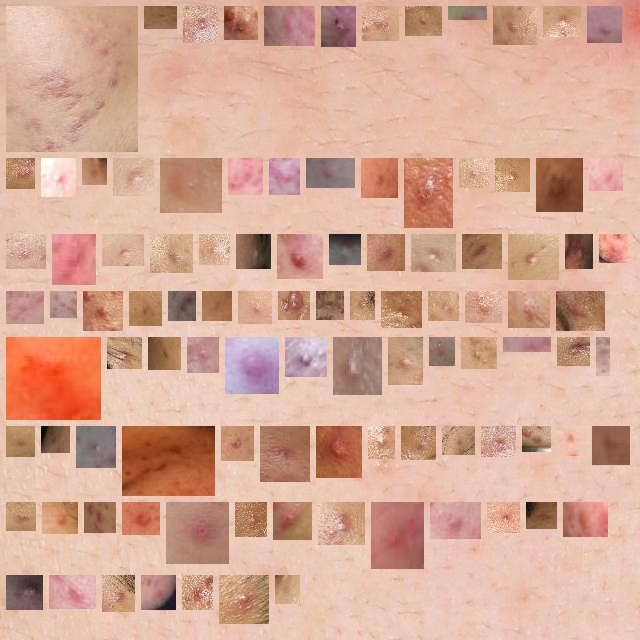papule: (14, 14, 130, 144), (14, 345, 93, 412), (130, 434, 207, 488), (174, 510, 221, 556), (379, 510, 416, 561), (168, 166, 214, 205), (412, 166, 445, 220), (233, 345, 271, 386), (341, 345, 374, 387), (268, 434, 302, 474), (544, 166, 575, 204), (227, 583, 261, 616), (324, 434, 354, 470), (516, 242, 551, 272), (60, 242, 88, 277), (285, 242, 315, 271), (272, 14, 307, 38), (326, 510, 357, 537), (564, 299, 597, 323), (438, 510, 473, 531), (501, 14, 529, 37), (419, 242, 448, 264), (293, 345, 319, 369), (84, 434, 108, 460), (158, 242, 185, 265), (396, 345, 415, 377), (91, 299, 115, 323), (57, 583, 88, 601), (571, 510, 600, 529), (121, 166, 146, 188), (516, 299, 542, 320), (389, 299, 414, 320), (600, 434, 622, 457), (281, 510, 304, 532), (369, 166, 390, 190), (329, 14, 348, 39), (314, 166, 347, 180), (375, 242, 397, 263), (14, 242, 38, 261), (470, 242, 494, 261), (49, 166, 68, 189), (110, 242, 136, 258), (191, 14, 210, 35), (370, 14, 391, 33), (595, 14, 614, 35), (236, 166, 255, 187), (14, 583, 35, 602), (14, 299, 36, 316), (130, 510, 152, 527), (244, 242, 263, 261), (149, 583, 168, 602), (110, 583, 127, 604), (503, 166, 522, 184), (409, 434, 428, 452), (473, 299, 494, 315), (551, 14, 573, 29), (232, 14, 250, 32), (137, 299, 154, 318), (229, 434, 246, 453), (195, 345, 211, 365), (469, 345, 489, 361), (50, 510, 70, 526), (277, 166, 292, 187), (597, 166, 615, 183), (246, 299, 264, 316), (115, 345, 134, 361), (243, 510, 259, 529), (413, 14, 434, 28), (156, 345, 173, 362), (489, 434, 508, 449), (190, 583, 205, 602), (495, 510, 512, 525), (337, 242, 353, 257), (92, 510, 108, 525), (573, 242, 585, 261), (207, 242, 222, 257), (511, 337, 543, 344), (565, 345, 582, 358), (450, 434, 467, 447), (436, 299, 451, 313), (607, 242, 623, 255), (286, 299, 302, 312), (467, 166, 481, 180), (210, 299, 224, 313), (14, 166, 27, 181), (14, 434, 27, 449), (376, 434, 387, 451), (565, 434, 578, 448), (14, 510, 28, 523), (152, 11, 169, 21), (176, 299, 188, 313), (534, 510, 549, 521), (324, 299, 336, 312), (49, 434, 62, 445), (437, 345, 447, 358), (530, 434, 543, 444), (58, 299, 69, 310), (358, 299, 367, 312), (283, 583, 292, 596), (90, 166, 99, 177)
